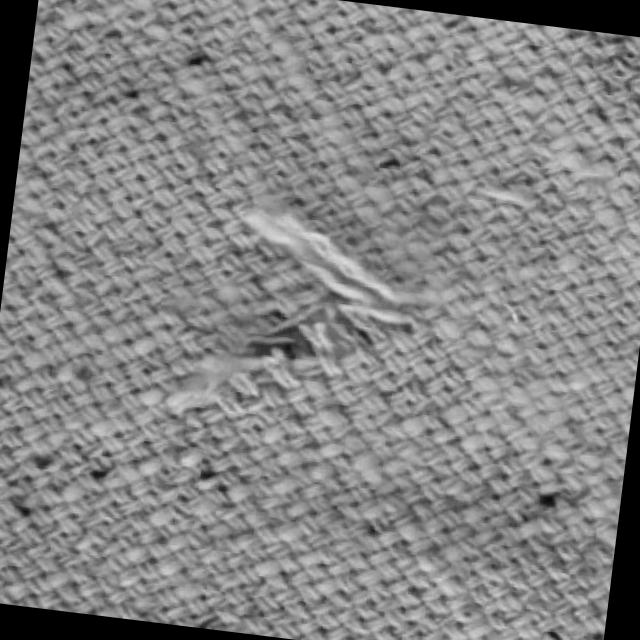Thread: (217, 186, 434, 340), (170, 340, 282, 420)
